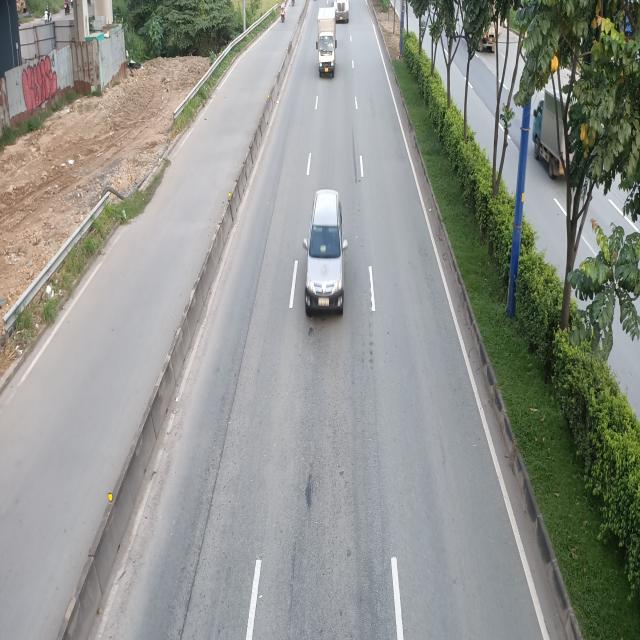car: (306, 188, 349, 315)
truck: (315, 7, 336, 78)
